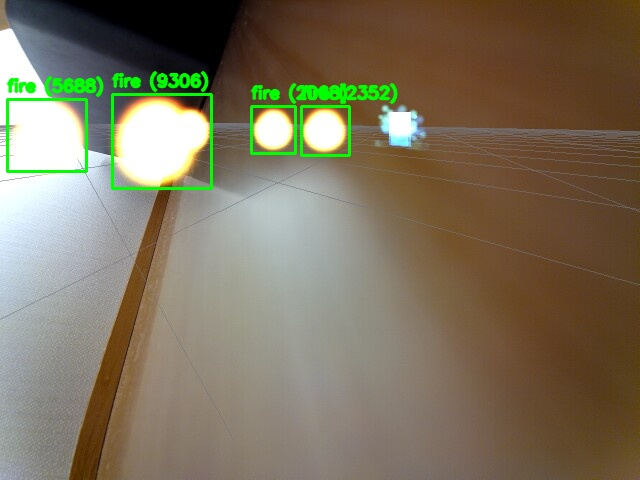fire: (112, 94, 211, 188), (7, 99, 86, 171), (301, 106, 349, 155), (251, 106, 295, 153)
